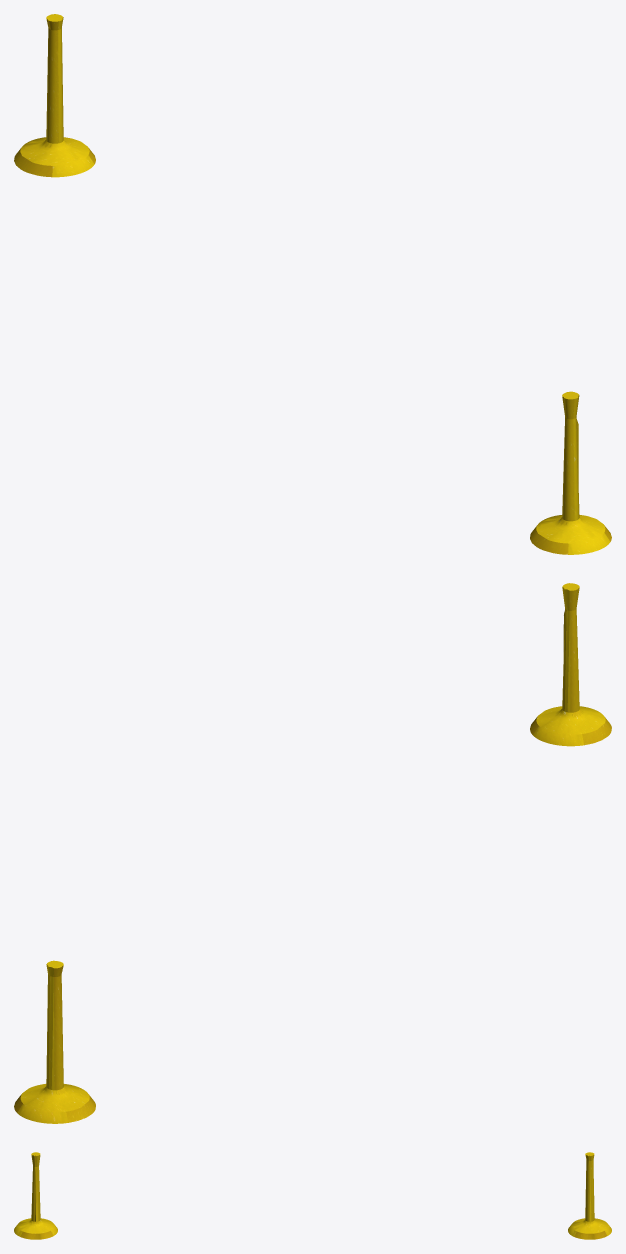
Rendered from valve1.obj.
The picture shows the model from 3 angles, top to bottom: view 1: azimuth 30°, elevation 25°; view 2: azimuth 150°, elevation 25°; view 3: azimuth 270°, elevation 25°; orthographic projection. The views are drawn at different scales.
Parts seen in each view (by area): view 1: ValveSet1_Gear.003; view 2: ValveSet1_Gear.003; view 3: ValveSet1_Gear.003.
Boxes of the visible parts, <box> form: ValveSet1_Gear.003: <box>14,14,611,554</box>; ValveSet1_Gear.003: <box>14,583,611,1123</box>; ValveSet1_Gear.003: <box>14,1152,611,1239</box>.
Bounding box in the file's own units: 1.14 × 2.23 × 15.73.
2 materials, 2 textured.
